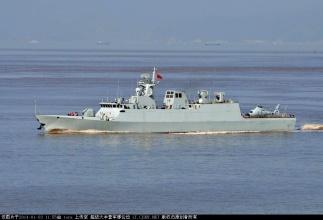warship: (29, 69, 309, 132)
